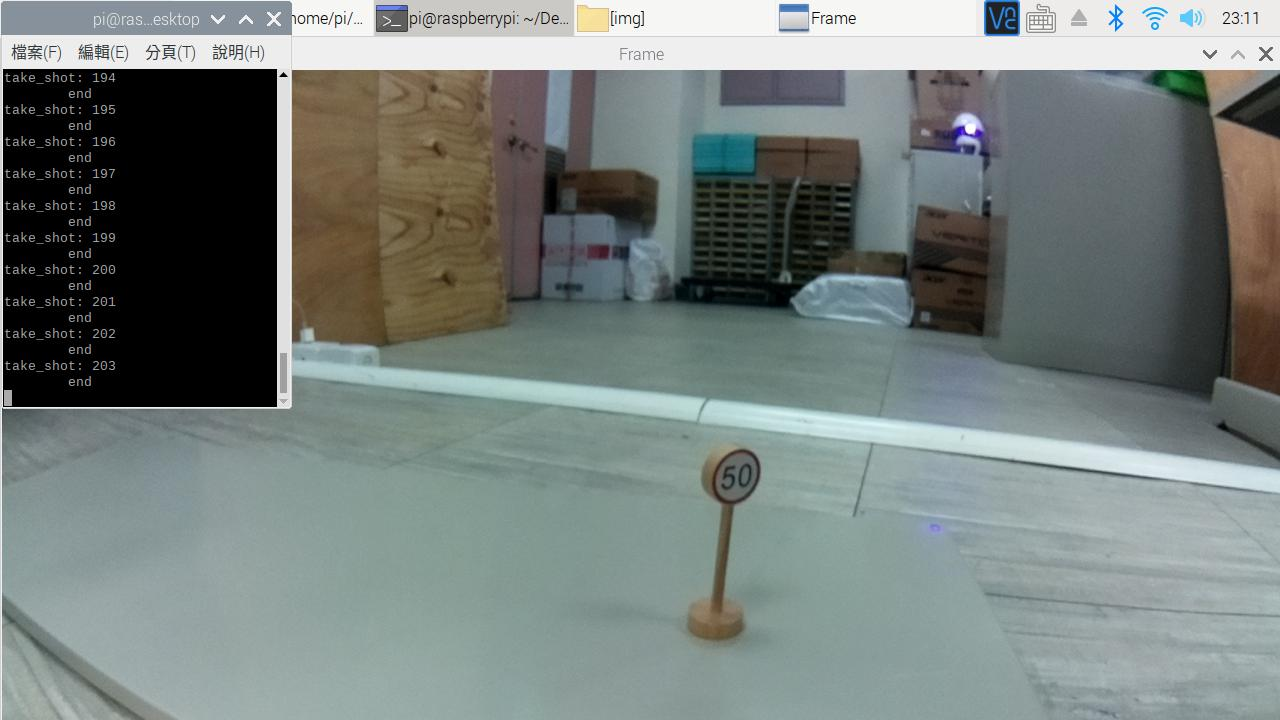Speed50: (687, 438, 781, 508)
